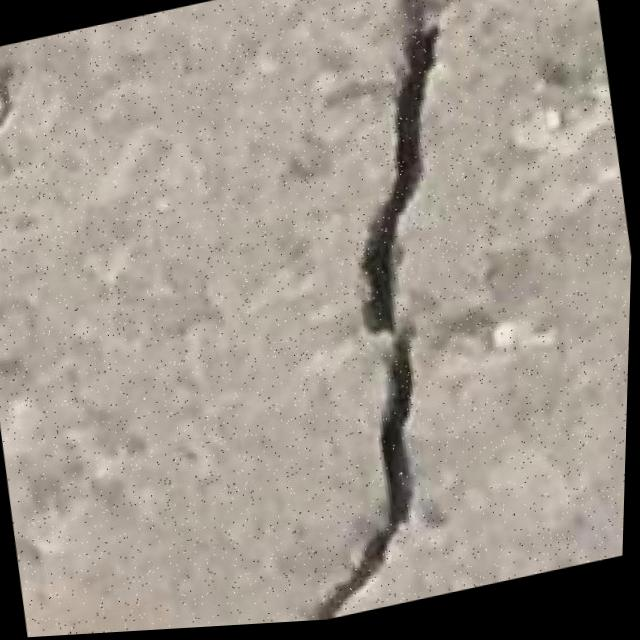Crack: (199, 0, 543, 630), (0, 44, 29, 183)
